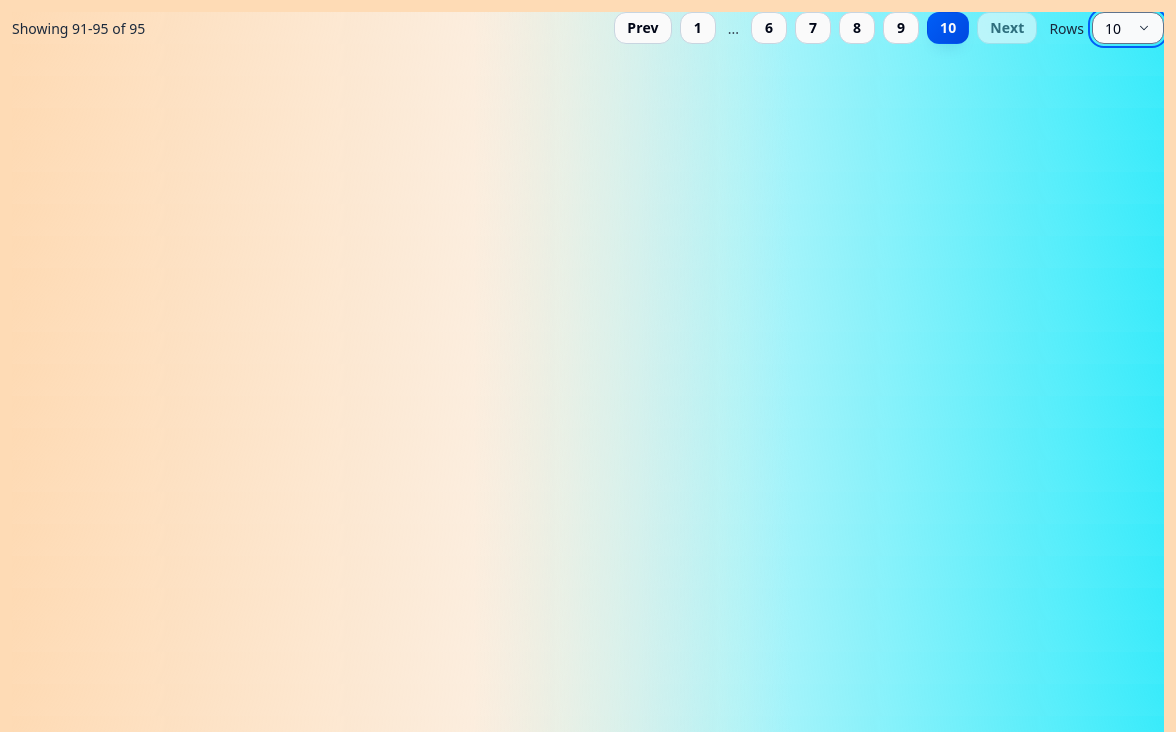
Test: Pagination: page size (D15) › keeps the page inside the new range when the size grows past it
Press Enter
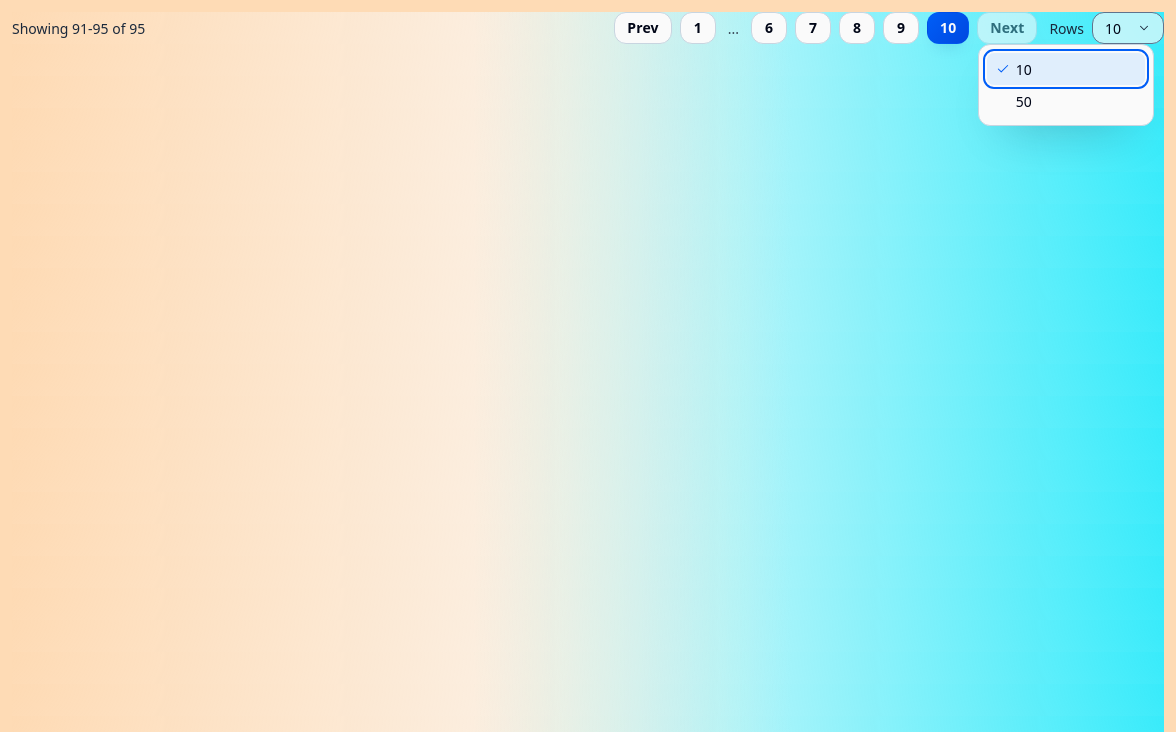
Click the option "50" at (1024, 101), box [1016,92,1032,110]
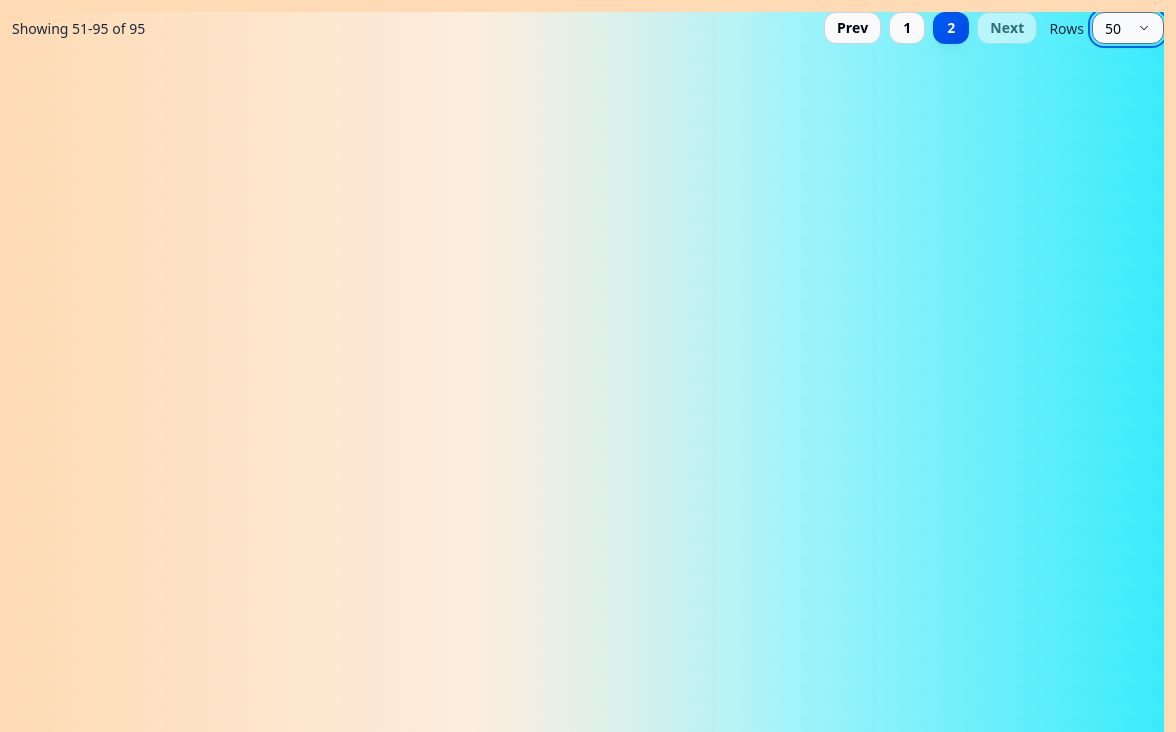
Expected: the text "Showing 51-95 of 95" is shown, [12,18,145,38]
